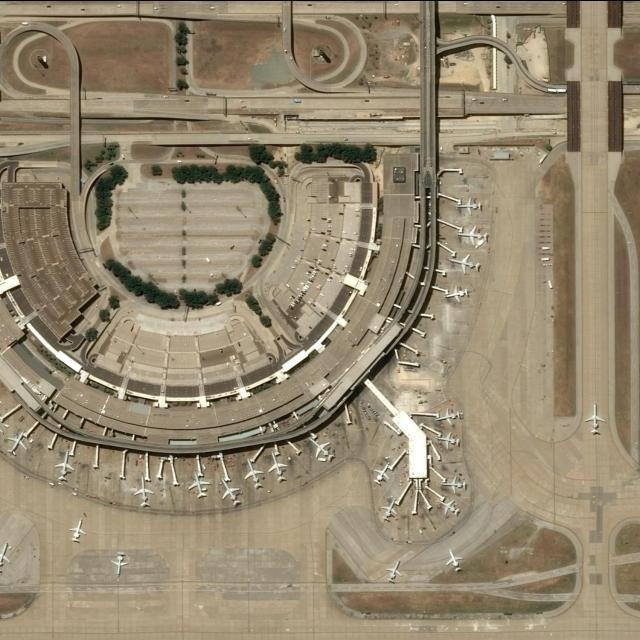Aircraft: (587, 403, 607, 439), (220, 479, 244, 509), (133, 474, 154, 506), (190, 471, 212, 501), (55, 452, 77, 482), (7, 429, 30, 457), (245, 460, 266, 490), (446, 282, 472, 306), (311, 438, 337, 462), (452, 253, 482, 273), (269, 456, 291, 482), (438, 406, 465, 426), (458, 225, 486, 244), (443, 473, 469, 493), (439, 500, 464, 520), (437, 431, 463, 449), (110, 552, 129, 576), (447, 549, 465, 573), (70, 520, 89, 542), (460, 198, 484, 215), (388, 560, 406, 582), (375, 463, 393, 485), (0, 541, 13, 571), (383, 499, 400, 521)
